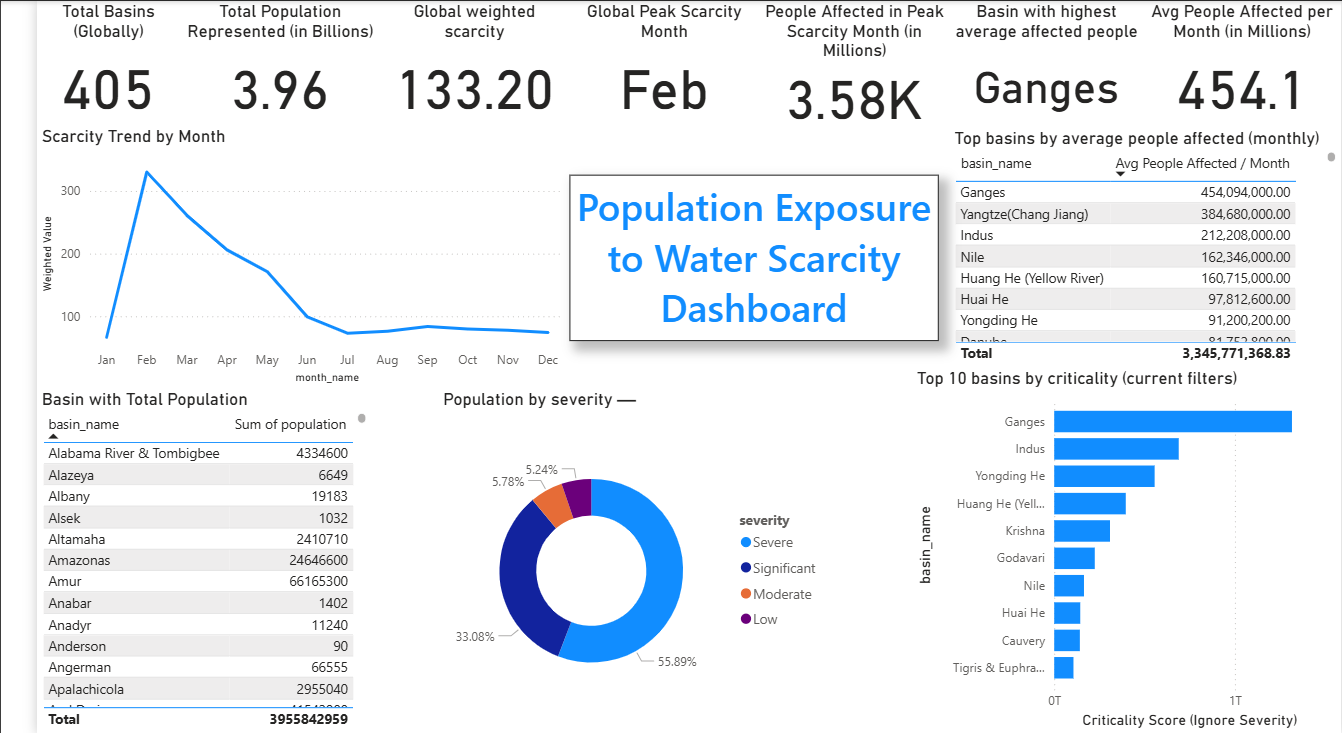

The dashboard page shown, as its layout file describes it:
{"tool":"powerbi","page":{"name":"Page 1","canvas":[1280,720],"ordinal":0},"visuals":[{"type":"card","title":"Global weighted scarcity","fields":{"Values":["scarcity_clean_long.Weighted Value"]},"box":[336,0,186.5,122.8],"z":0},{"type":"card","title":"Total Basins                                             (Globally)","fields":{"Values":["scarcity_clean_long.Basins Count"]},"box":[0,0,140.6,122.8],"z":1000},{"type":"card","title":"Global Peak Scarcity Month","fields":{"Values":["scarcity_clean_long.Peak Global Month"]},"box":[522.5,0,186.5,122.8],"z":2000},{"type":"card","title":"People Affected in Peak Scarcity Month (in Millions)","fields":{"Values":["scarcity_clean_long.People Affected (Peak, M)"]},"box":[709,0,186.5,122.8],"z":3000},{"type":"card","title":"Basin with highest average affected people","fields":{"Values":["scarcity_clean_long.Basin (Max Avg Affected)"]},"box":[895.5,0,190.9,122.8],"z":4000},{"type":"card","title":"Avg People Affected per Month (in Millions)","fields":{"Values":["scarcity_clean_long.Max Avg Affected (M)"]},"box":[1086.4,0,193.9,122.8],"z":5000},{"type":"tableEx","title":"Top basins by average people affected (monthly)","fields":{"Values":["dim_basin.basin_name","scarcity_clean_long.Avg People Affected / Month"]},"box":[896.1,123.5,384.2,236],"z":6000},{"type":"lineChart","title":"Scarcity Trend by Month","fields":{"Category":["dim_month.month_name"],"Y":["scarcity_clean_long.Weighted Value"]},"box":[0,122.8,522.5,257.5],"z":7000},{"type":"tableEx","title":"Basin with Total Population","fields":{"Values":["dim_basin.basin_name","dim_basin.population"]},"box":[0,380.4,328.6,338.9],"z":8000},{"type":"donutChart","fields":{"Category":["Dim Severity.severity"],"Y":["scarcity_clean_long.Pop (Peak, by Severity)"]},"box":[393.7,380.4,384.8,338.9],"z":9000},{"type":"clusteredBarChart","fields":{"Category":["dim_basin.basin_name"],"Y":["scarcity_clean_long.Criticality Score (Ignore Severity)"]},"box":[858.5,359.7,421.8,359.7],"z":10000},{"type":"textbox","box":[522.5,170.2,362.6,162.8],"z":11000},{"type":"card","title":"Total Population Represented (in Billions)","fields":{"Values":["scarcity_clean_long.Total Population (B)"]},"box":[140.6,0,195.4,122.8],"z":12000}]}

Visuals, with their boxes in screenshot pixels (x1, y1, x2, y2), scaled from the page's 1280x720 canvas onto the 1342x733 screenshot:
"Global weighted scarcity" card: <bbox>352, 0, 548, 125</bbox>
"Total Basins                                             (Globally)" card: <bbox>0, 0, 147, 125</bbox>
"Global Peak Scarcity Month" card: <bbox>548, 0, 743, 125</bbox>
"People Affected in Peak Scarcity Month (in Millions)" card: <bbox>743, 0, 939, 125</bbox>
"Basin with highest average affected people" card: <bbox>939, 0, 1139, 125</bbox>
"Avg People Affected per Month (in Millions)" card: <bbox>1139, 0, 1341, 125</bbox>
"Top basins by average people affected (monthly)" tableEx: <bbox>940, 126, 1341, 366</bbox>
"Scarcity Trend by Month" lineChart: <bbox>0, 125, 548, 387</bbox>
"Basin with Total Population" tableEx: <bbox>0, 387, 345, 732</bbox>
donutChart - Dim Severity.severity x scarcity_clean_long.Pop (Peak, by Severity): <bbox>413, 387, 816, 732</bbox>
clusteredBarChart - dim_basin.basin_name x scarcity_clean_long.Criticality Score (Ignore Severity): <bbox>900, 366, 1341, 732</bbox>
textbox: <bbox>548, 173, 928, 339</bbox>
"Total Population Represented (in Billions)" card: <bbox>147, 0, 352, 125</bbox>
